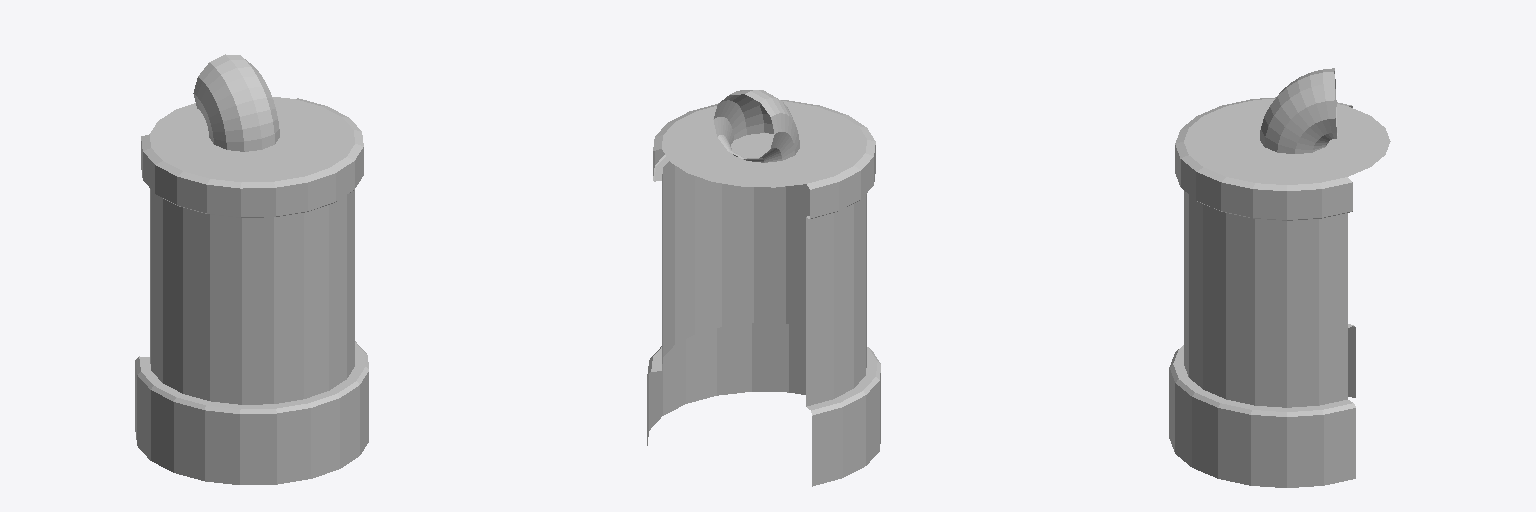
Rendered from tank.obj.
The picture shows the model from 3 angles: view 1: azimuth 30°, elevation 25°; view 2: azimuth 150°, elevation 25°; view 3: azimuth 270°, elevation 25°; orthographic projection.
Parts seen in each view (by area): view 1: Cylinder; view 2: Cylinder; view 3: Cylinder.
Boxes of the visible parts, x1,y1,x2,y2 form: Cylinder: [135, 54, 368, 484]; Cylinder: [647, 90, 880, 486]; Cylinder: [1169, 68, 1390, 487].
Size of the model in its own units: 1.64 by 2.81 by 1.54.